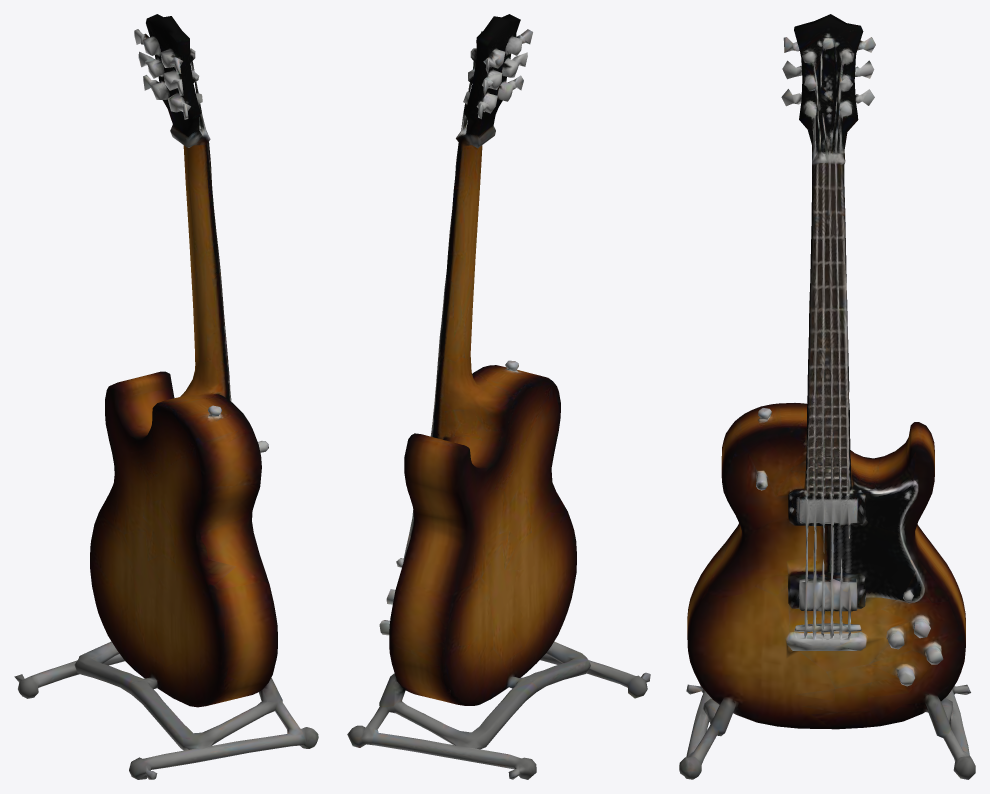
Rendered from electricguitar-v1.glb.
The picture shows the model from 3 angles, left to right: view 1: azimuth 30°, elevation 25°; view 2: azimuth 150°, elevation 25°; view 3: azimuth 270°, elevation 25°; orthographic projection. The views are drawn at different scales.
Parts seen in each view (by area): view 1: prop__electricguitar; view 2: prop__electricguitar; view 3: prop__electricguitar.
Boxes of the visible parts, box(x1,y1,x2,y2) form: prop__electricguitar: box(14, 14, 318, 779); prop__electricguitar: box(347, 14, 650, 779); prop__electricguitar: box(679, 14, 975, 779).
Bounding box in the file's own units: 0.2648 × 1 × 0.3703.
Materials: 1 (1 with a texture image).
